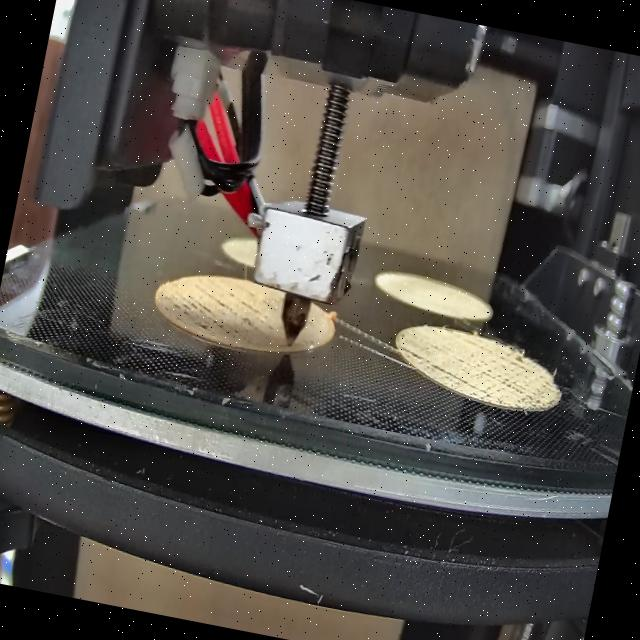under_extrusion: (391, 326, 564, 414), (153, 276, 280, 348)
